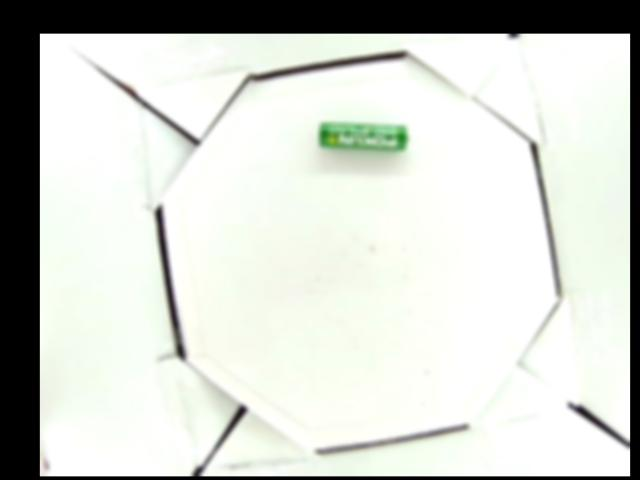Battery: (317, 122, 409, 151)
